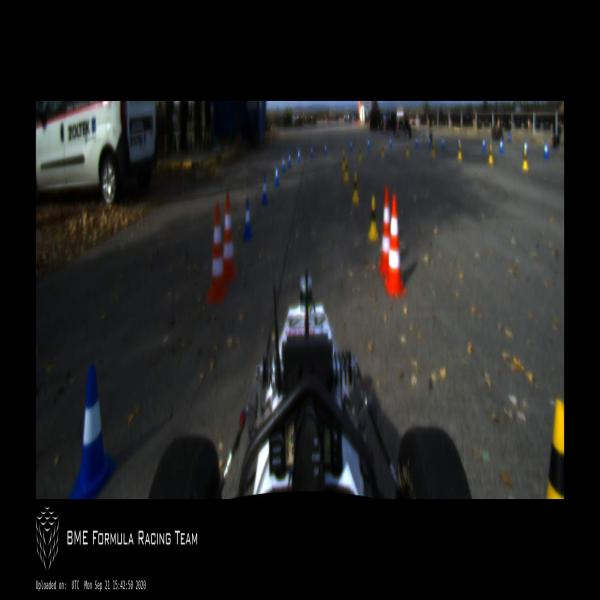blue_cone: (68, 365, 115, 498), (244, 199, 252, 241), (261, 174, 269, 205), (274, 163, 279, 186), (544, 139, 548, 159), (282, 154, 286, 174), (524, 138, 528, 156), (288, 150, 292, 167), (482, 136, 486, 152), (500, 137, 503, 153), (311, 143, 314, 158), (324, 143, 327, 156), (389, 137, 392, 149), (442, 137, 445, 149), (298, 146, 300, 163), (367, 138, 370, 149), (350, 140, 352, 151), (416, 136, 418, 147), (458, 137, 460, 148), (429, 138, 431, 147)
large_orange_cone: (205, 204, 229, 305), (383, 194, 406, 296), (222, 193, 238, 284), (378, 188, 391, 277)
yellow_cone: (545, 397, 564, 499), (368, 195, 379, 241), (352, 173, 359, 203), (522, 149, 528, 170), (488, 142, 493, 164), (344, 158, 348, 182), (342, 150, 346, 170), (358, 144, 362, 162), (458, 143, 462, 159), (381, 142, 385, 157), (432, 141, 435, 157), (406, 142, 409, 156)
